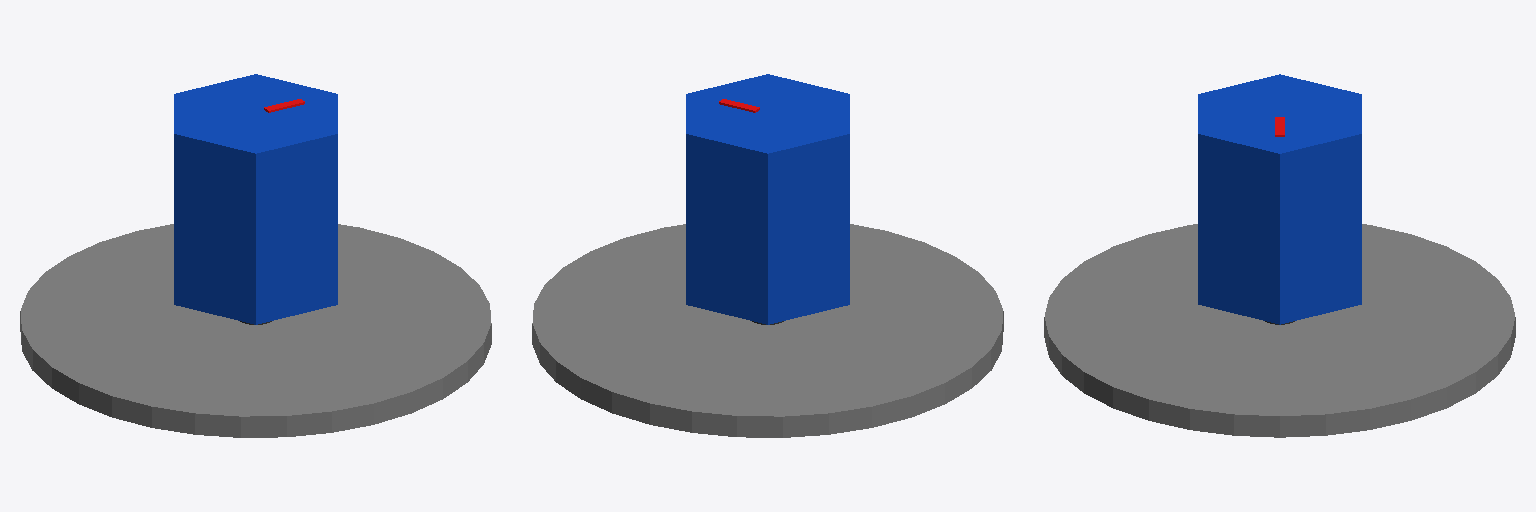
The robot description file, URDF, robot "vavledriver":
<?xml version="1.0"?>
<!-- 40 mm-radius variant of vavledriver_hex.urdf. Only the valve mesh XY
     scale changes: 30 mm * 4/3 = 40 mm; every other value is identical. -->
<robot name="vavledriver">
  <link name="base">
    <visual>
      <origin xyz="0 0 0"/>
      <geometry><cylinder radius="0.1" length="0.01"/></geometry>
      <material name="base_gray"><color rgba="0.55 0.55 0.55 1"/></material>
    </visual>
    <collision>
      <origin xyz="0 0 0"/>
      <geometry><cylinder radius="0.1" length="0.01"/></geometry>
    </collision>
    <inertial>
      <mass value="10.0"/>
      <origin xyz="0 0 0"/>
      <inertia ixx="0.02508" ixy="0" ixz="0" iyy="0.02508" iyz="0" izz="0.05"/>
    </inertial>
  </link>

  <link name="shaft">
    <visual>
      <origin xyz="0 0 0.01"/>
      <geometry><cylinder radius="0.008" length="0.02"/></geometry>
      <material name="shaft_dark"><color rgba="0.25 0.25 0.25 1"/></material>
    </visual>
    <collision>
      <origin xyz="0 0 0.01"/>
      <geometry><cylinder radius="0.008" length="0.02"/></geometry>
    </collision>
    <inertial>
      <mass value="0.012"/>
      <origin xyz="0 0 0.01"/>
      <inertia ixx="0.000000528" ixy="0" ixz="0" iyy="0.000000528" iyz="0" izz="0.000000384"/>
    </inertial>
  </link>

  <link name="valve">
    <visual>
      <origin xyz="0 0 0.04"/>
      <geometry><mesh filename="hex_valve.stl" scale="1.3333333333333333 1.3333333333333333 1.0"/></geometry>
      <material name="valve_blue"><color rgba="0.10 0.35 0.80 1"/></material>
    </visual>
    <collision>
      <origin xyz="0 0 0.04"/>
      <geometry><mesh filename="hex_valve.stl" scale="1.3333333333333333 1.3333333333333333 1.0"/></geometry>
    </collision>
    <inertial>
      <mass value="0.05"/>
      <origin xyz="0 0 0.04"/>
      <inertia ixx="0.000036042" ixy="0" ixz="0" iyy="0.000036042" iyz="0" izz="0.000018750"/>
    </inertial>
    <!-- Asymmetric visual marker makes rotation easy to inspect in the viewer. -->
    <visual>
      <origin xyz="0.014 0 0.0805"/>
      <geometry><box size="0.018 0.004 0.001"/></geometry>
      <material name="marker_red"><color rgba="0.95 0.10 0.10 1"/></material>
    </visual>
  </link>

  <joint name="base_to_shaft" type="fixed">
    <parent link="base"/>
    <child link="shaft"/>
    <origin xyz="0 0 0" rpy="0 0 0"/>
  </joint>

  <joint name="valve_to_shaft" type="revolute">
    <parent link="shaft"/>
    <child link="valve"/>
    <origin xyz="0 0 0.02" rpy="0 0 0"/>
    <axis xyz="0 0 -1"/>
    <dynamics friction="0.2"/>
    <limit lower="0.0" upper="628.3185" effort="2.0" velocity="6.2832"/>
  </joint>
</robot>

--- Render facts (derived) ---
The picture shows the robot from 3 angles, left to right: view 1: azimuth 30°, elevation 25°; view 2: azimuth 150°, elevation 25°; view 3: azimuth 270°, elevation 25°; orthographic projection.
Robot: vavledriver — 3 links, 2 joints (1 revolute, 1 fixed); root link base; default pose: all joints at 0.
Links seen in each view (by area): view 1: base, valve; view 2: base, valve; view 3: base, valve.
Boxes of the visible links, left/top/right/bottom form: base: left=20, top=224, right=491, bottom=437; valve: left=174, top=74, right=337, bottom=324; base: left=532, top=224, right=1003, bottom=437; valve: left=686, top=74, right=849, bottom=324; base: left=1044, top=224, right=1515, bottom=437; valve: left=1198, top=74, right=1361, bottom=324.
Bounding box of the posed robot: 0.2 × 0.2 × 0.106 m (x, y, z).
Meshes: 1 distinct files referenced, 1 mesh visuals loaded (1 ASCII STL).
